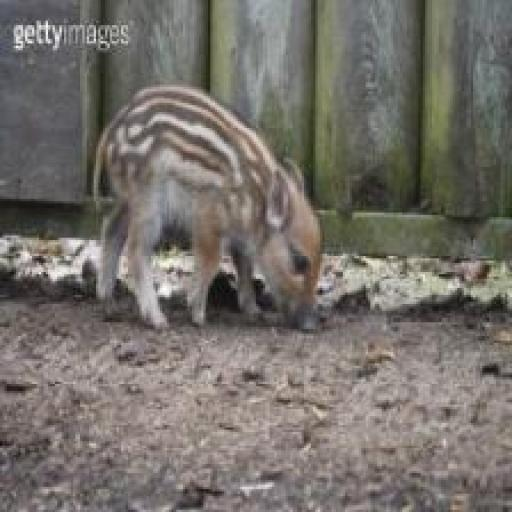Pig: (82, 71, 334, 363)
